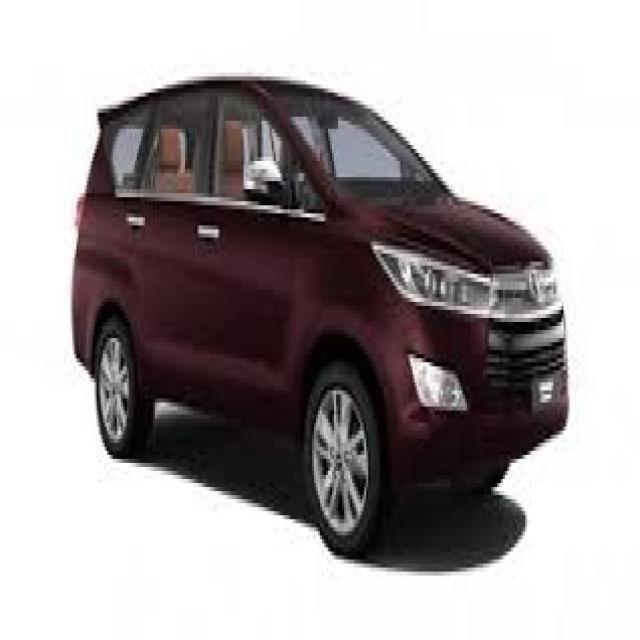light_vehicle: (72, 76, 569, 559)
